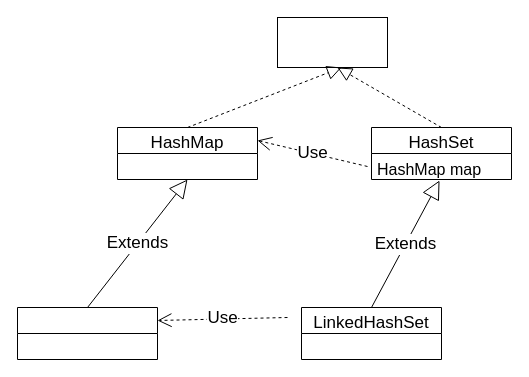
Some shapes in this 529 by 377 pixel diagram are drawn without their labels. Here are the shapes that lost their labels. From the top down, the centre of each, then its label:
the point at 332,42: Collection
the point at 87,333: LinkedHashMap
